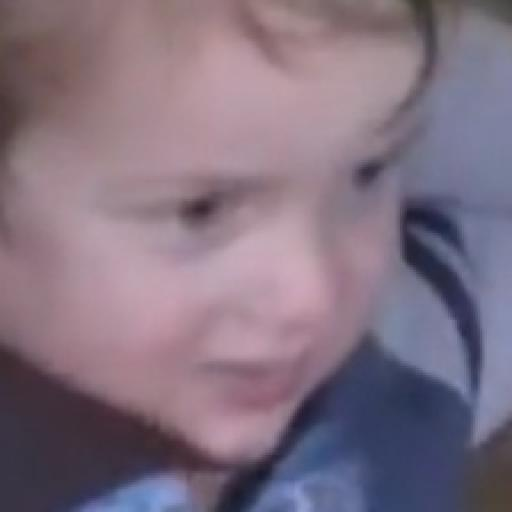Autism: (29, 18, 512, 479)
